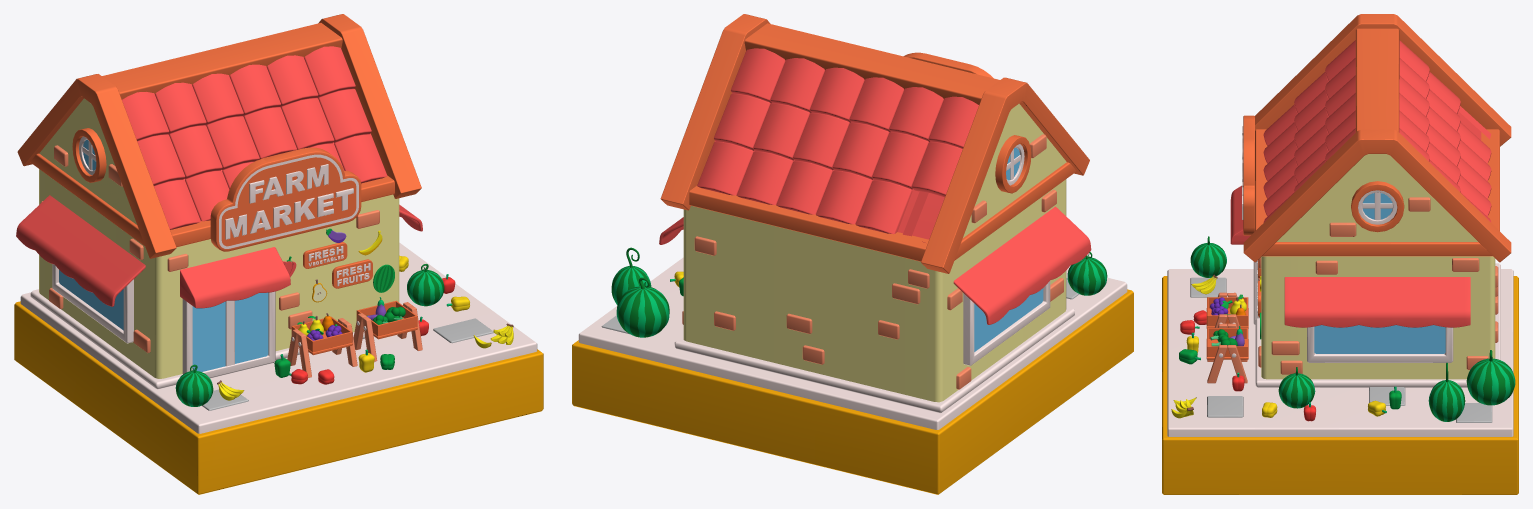
Rendered from Store_Island_19.glb.
3 renders of one model, left to right at view 1: azimuth 30°, elevation 25°; view 2: azimuth 150°, elevation 25°; view 3: azimuth 270°, elevation 25°, orthographic. The views are drawn at different scales.
Parts seen in each view (by area): view 1: Store_19_Farm_Market_1, Store_19_Base_1, Store_19_Farm_Market_Sign_1, Store_19_Rack_2, Store_19_Rack_1, Store_19_Watermelon_1, Store_19_Watermelon_3, Store_19_Fresh_Fruit_Sign_1, Store_19_Fresh_Vegetable_Sign_1; view 2: Store_19_Farm_Market_1, Store_19_Base_1, Store_19_Watermelon_4, Store_19_Watermelon_3, Store_19_Watermelon_2, Store_19_Farm_Market_Sign_1; view 3: Store_19_Farm_Market_1, Store_19_Base_1, Store_19_Watermelon_4, Store_19_Rack_2, Store_19_Farm_Market_Sign_1, Store_19_Watermelon_2, Store_19_Watermelon_1, Store_19_Watermelon_3, Store_19_Rack_1.
Part boxes in pixels (x1,y1,x2,y2): Store_19_Farm_Market_1: (16,14,422,389); Store_19_Base_1: (14,242,543,494); Store_19_Farm_Market_Sign_1: (210,147,361,251); Store_19_Rack_2: (353,300,422,361); Store_19_Rack_1: (287,316,357,377); Store_19_Watermelon_1: (407,264,444,306); Store_19_Watermelon_3: (175,364,213,406); Store_19_Fresh_Fruit_Sign_1: (332,259,372,288); Store_19_Fresh_Vegetable_Sign_1: (303,242,347,268); Store_19_Farm_Market_1: (659,14,1091,413); Store_19_Base_1: (572,257,1133,494); Store_19_Watermelon_4: (616,277,669,337); Store_19_Watermelon_3: (1067,252,1107,295); Store_19_Watermelon_2: (611,247,651,304); Store_19_Farm_Market_Sign_1: (903,52,993,78); Store_19_Farm_Market_1: (1230,14,1511,387); Store_19_Base_1: (1162,269,1518,494); Store_19_Watermelon_4: (1466,350,1515,405); Store_19_Rack_2: (1206,323,1248,383); Store_19_Farm_Market_Sign_1: (1242,115,1254,235); Store_19_Watermelon_2: (1428,362,1465,421); Store_19_Watermelon_1: (1278,367,1315,408); Store_19_Watermelon_3: (1190,236,1226,277); Store_19_Rack_1: (1206,292,1248,328).
Size of the model in its own units: 9.19 by 7.84 by 7.96.
38 materials, 38 textured.
